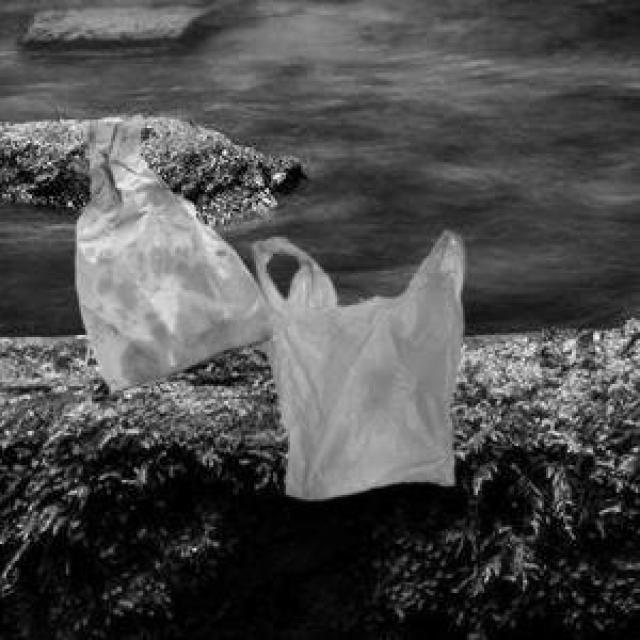paper: (73, 111, 271, 390)
